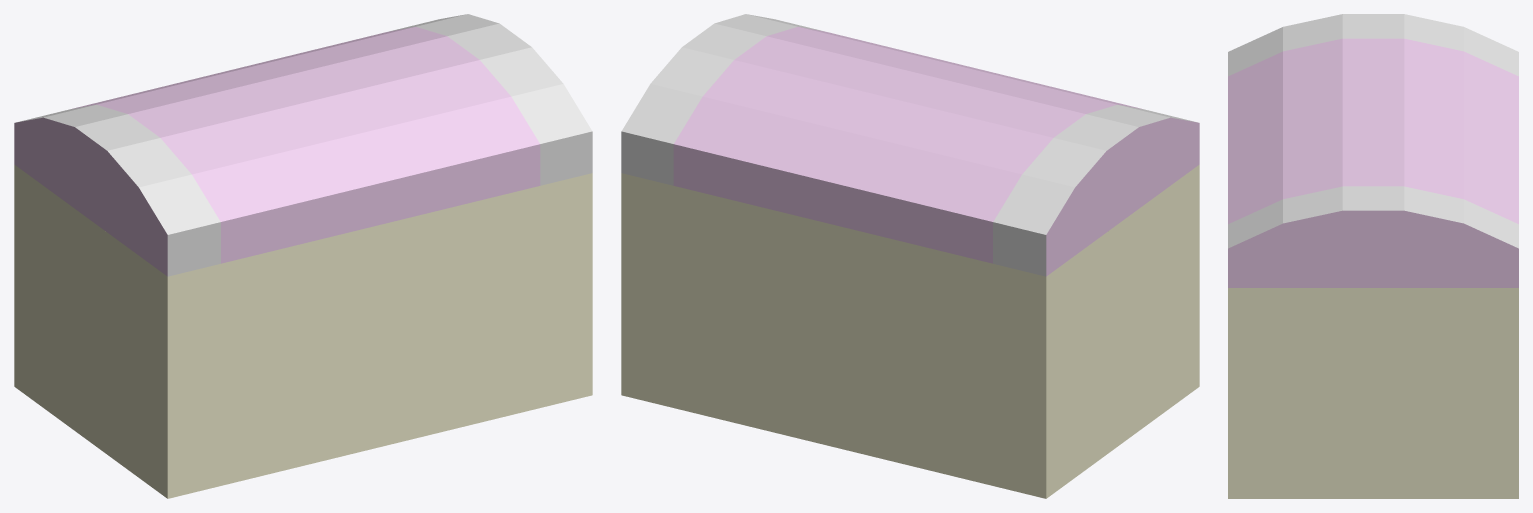
Rendered from Trunk.glb.
3 views of the same model, side by side, from view 1: azimuth 30°, elevation 25°; view 2: azimuth 150°, elevation 25°; view 3: azimuth 270°, elevation 25° (orthographic). The views are drawn at different scales.
Parts seen in each view (by area): view 1: Trunk; view 2: Trunk; view 3: Trunk.
Part boxes in pixels (left/top/right/bottom): Trunk: left=14, top=14, right=592, bottom=498; Trunk: left=621, top=14, right=1199, bottom=498; Trunk: left=1228, top=14, right=1518, bottom=498.
Bounding box in the file's own units: 0.8 × 0.5469 × 0.5.
